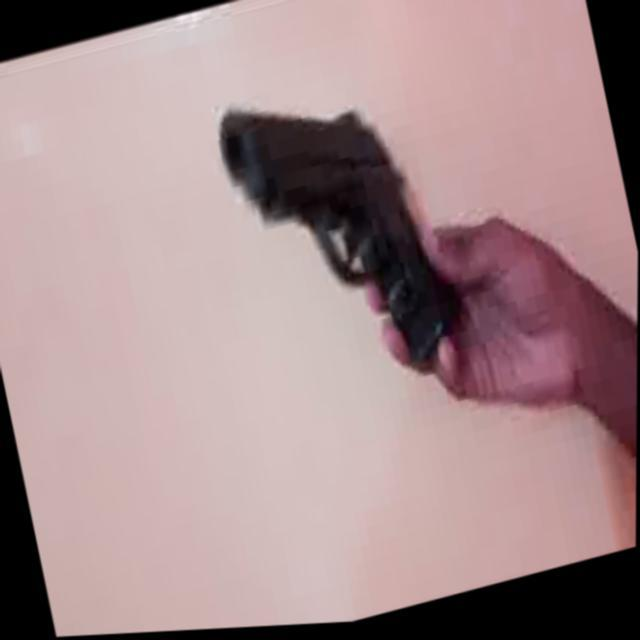weapon: (209, 54, 482, 422)
